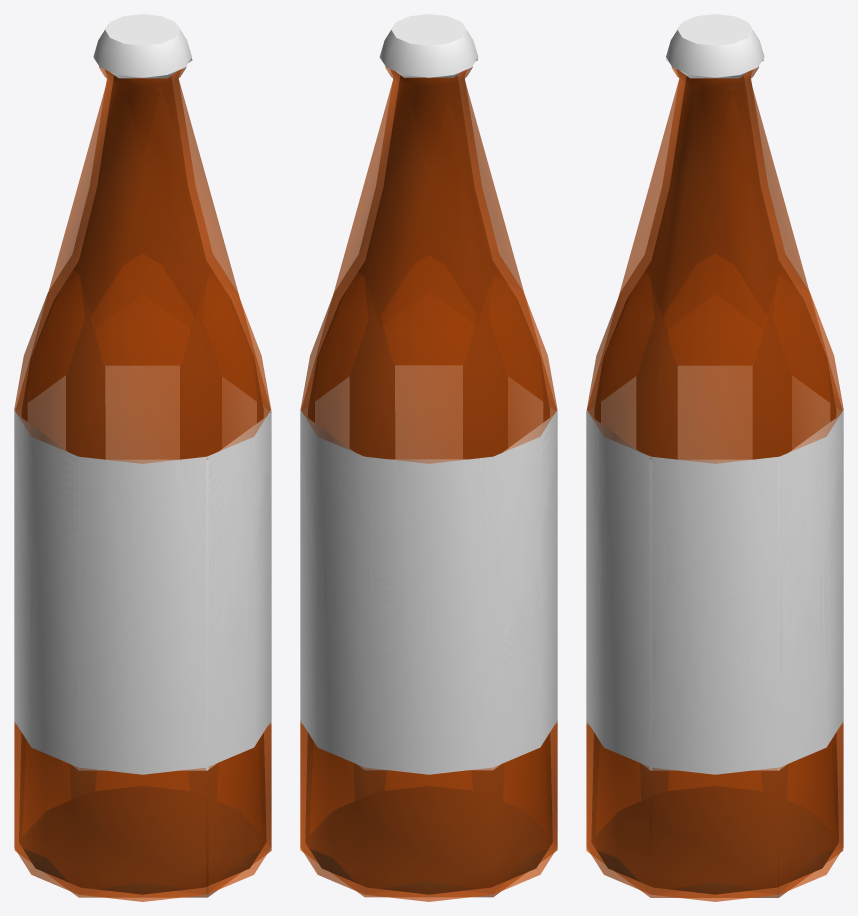
Rendered from BeerBottle 2.glb.
The picture shows the model from 3 angles, left to right: view 1: azimuth 30°, elevation 25°; view 2: azimuth 150°, elevation 25°; view 3: azimuth 270°, elevation 25°; orthographic projection.
Visible parts, largest first — view 1: Circle.021, Circle.026, Circle.022; view 2: Circle.021, Circle.026, Circle.022; view 3: Circle.021, Circle.026, Circle.022.
Part boxes in pixels (bbox=[...]): Circle.021: bbox=[14, 14, 271, 901]; Circle.026: bbox=[14, 58, 271, 897]; Circle.022: bbox=[19, 75, 266, 894]; Circle.021: bbox=[300, 14, 557, 901]; Circle.026: bbox=[300, 58, 557, 897]; Circle.022: bbox=[305, 75, 552, 894]; Circle.021: bbox=[586, 14, 843, 901]; Circle.026: bbox=[586, 58, 843, 897]; Circle.022: bbox=[591, 75, 838, 894].
Size of the model in its own units: 0.0785 by 0.2764 by 0.0786.
Materials: 4 (1 with a texture image).
